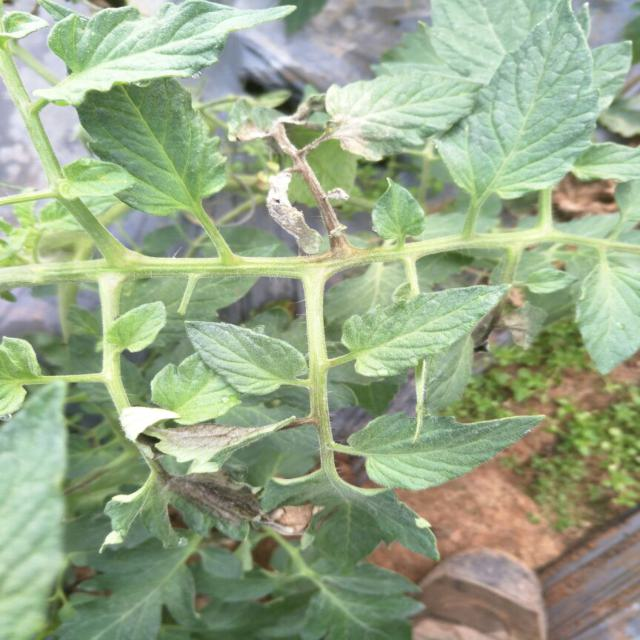Late_blight: (153, 466, 323, 537), (145, 418, 289, 456), (264, 166, 321, 254), (237, 97, 321, 154), (329, 113, 370, 158)
